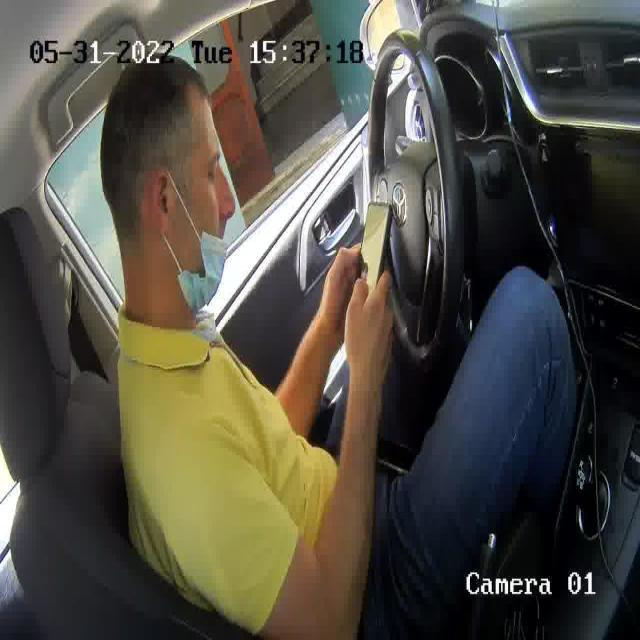Eye-Close: (205, 164, 222, 182)
Inattentive: (99, 54, 239, 310)
